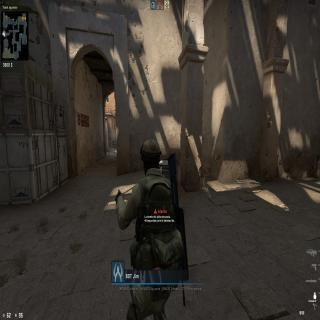CT-Head: (140, 136, 162, 176)
